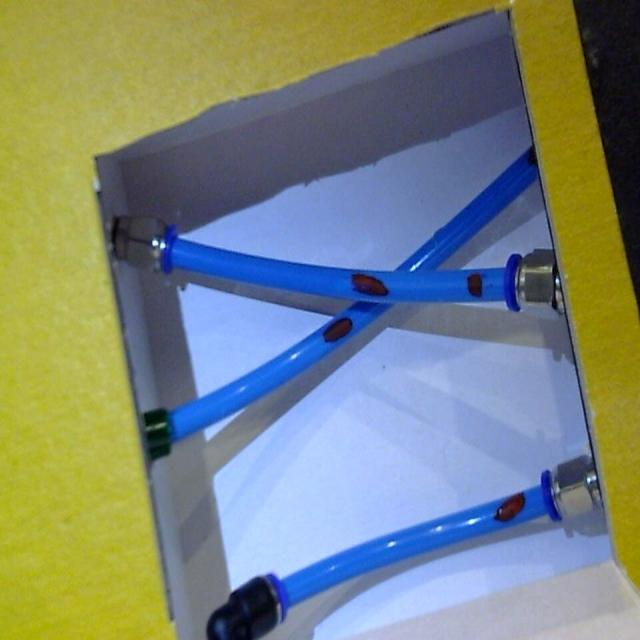hose_damage: (486, 489, 531, 529), (314, 310, 357, 350), (345, 267, 394, 300), (462, 267, 486, 303), (524, 144, 537, 170)
